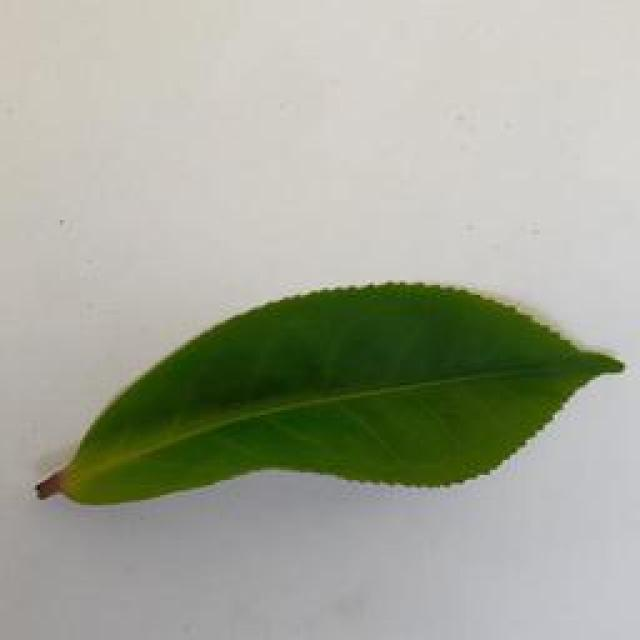Healthy: (47, 278, 628, 526)
